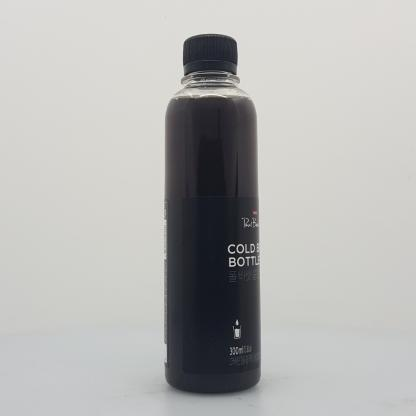--------------300ML: (163, 33, 261, 394)
